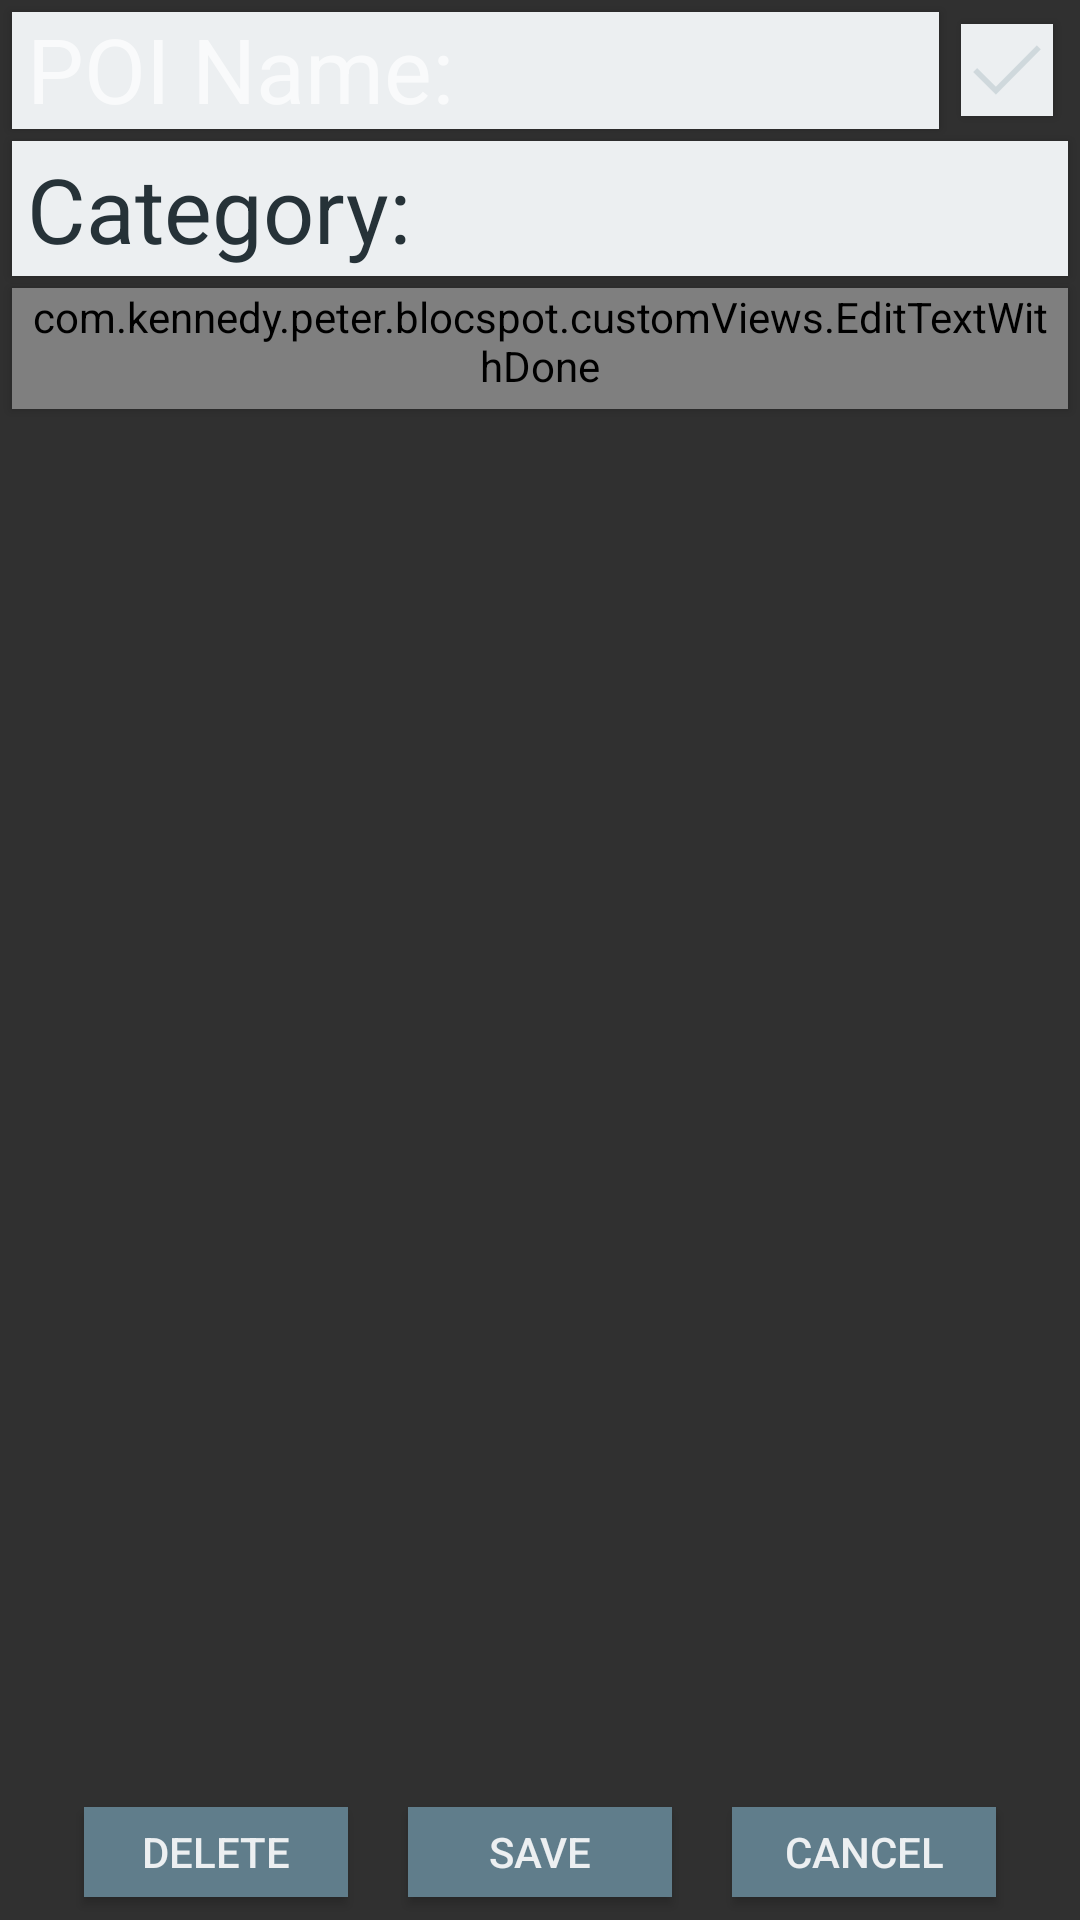

Screen size 1080 × 1920. Icon name, then its center in pixels as (x,y):
viewed checkbox: (1007,70)
